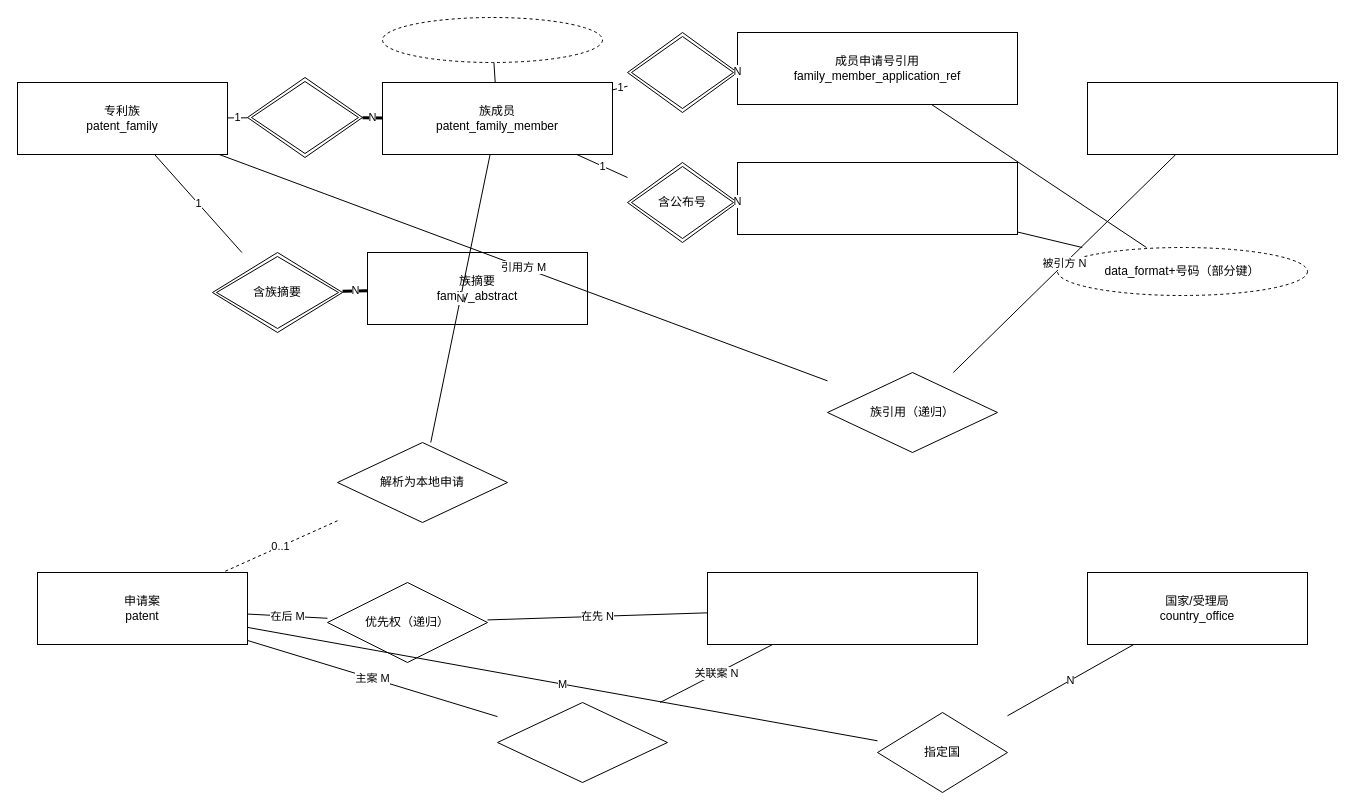
The diagram is 1355 pixels wide and 810 high, and some of its shapes have lost their labels. Here are the shapes that lost their labels. From the top down, the centre of each, then its label:
[492,39]: member_seq（部分键）
[682,72]: 含申请号
[304,117]: 含成员
[1212,118]: 专利族（被引角色） 同一 family 实体集
[877,198]: 成员公布号引用 family_member_publication_ref
[842,608]: 申请案（在先/关联角色） 同一 patent 实体集
[582,742]: 程序关联（递归）
